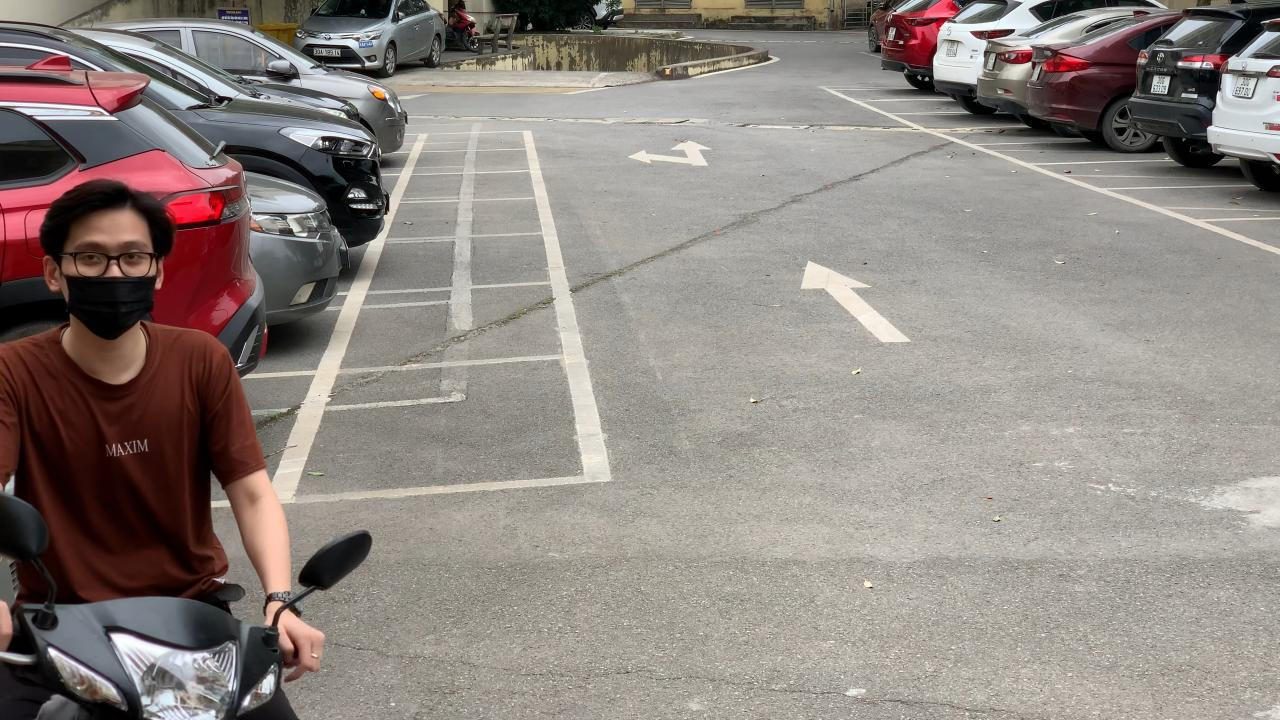motorcyclist: (0, 177, 376, 718)
